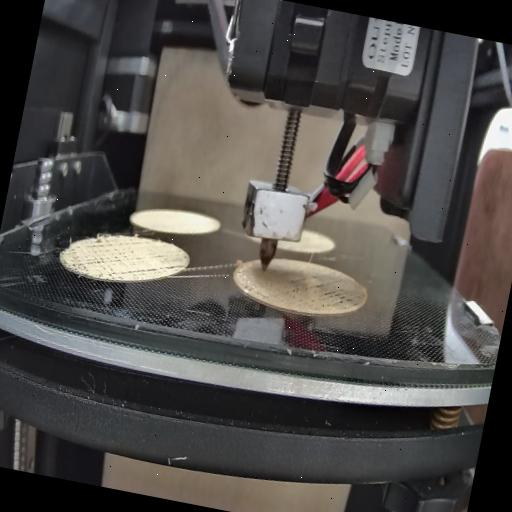under_extrusion: (65, 226, 166, 289), (285, 272, 365, 318), (235, 278, 272, 305), (164, 254, 188, 277)
